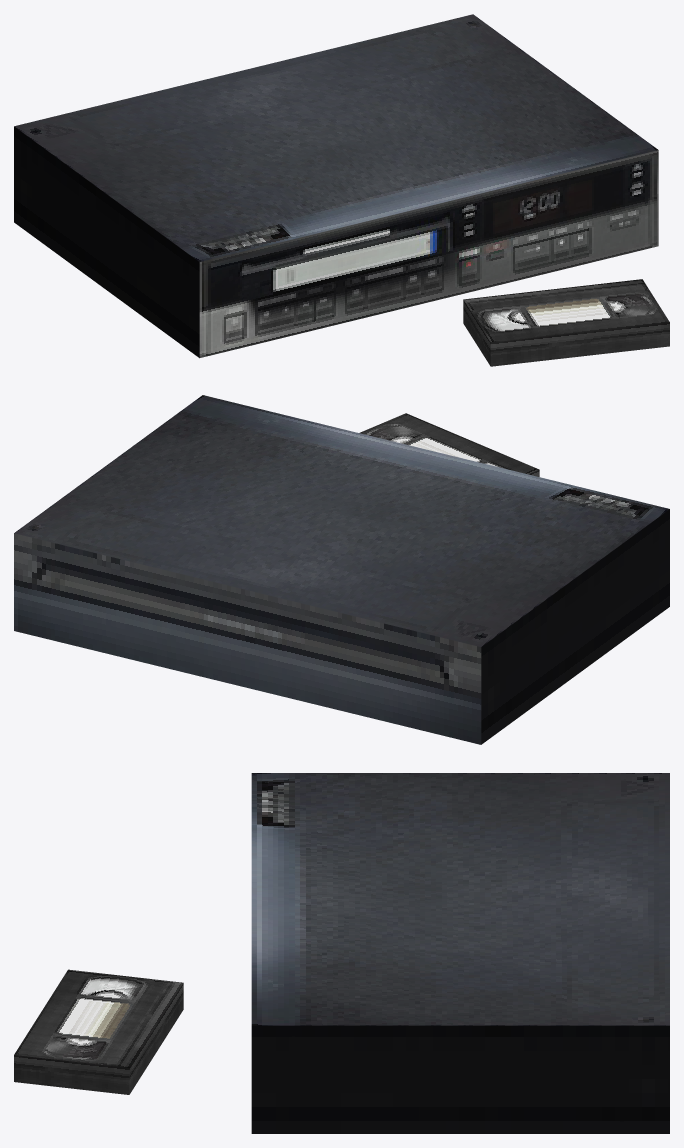
The model's file is psx_vhs_player__tape.glb.
The picture shows the model from 3 angles, top to bottom: view 1: azimuth 30°, elevation 25°; view 2: azimuth 150°, elevation 25°; view 3: azimuth 270°, elevation 25°; orthographic projection. The views are drawn at different scales.
Parts seen in each view (by area): view 1: VHSPlayer, VHSTape; view 2: VHSPlayer, VHSTape; view 3: VHSPlayer, VHSTape.
Boxes of the visible parts, left/top/right/bottom form: VHSPlayer: left=14, top=14, right=658, bottom=358; VHSTape: left=463, top=279, right=669, bottom=366; VHSPlayer: left=14, top=395, right=669, bottom=744; VHSTape: left=359, top=413, right=539, bottom=476; VHSPlayer: left=251, top=773, right=669, bottom=1133; VHSTape: left=14, top=969, right=183, bottom=1094.
Bounding box in the file's own units: 0.66 × 0.132 × 0.7246.
1 material, 1 textured.
